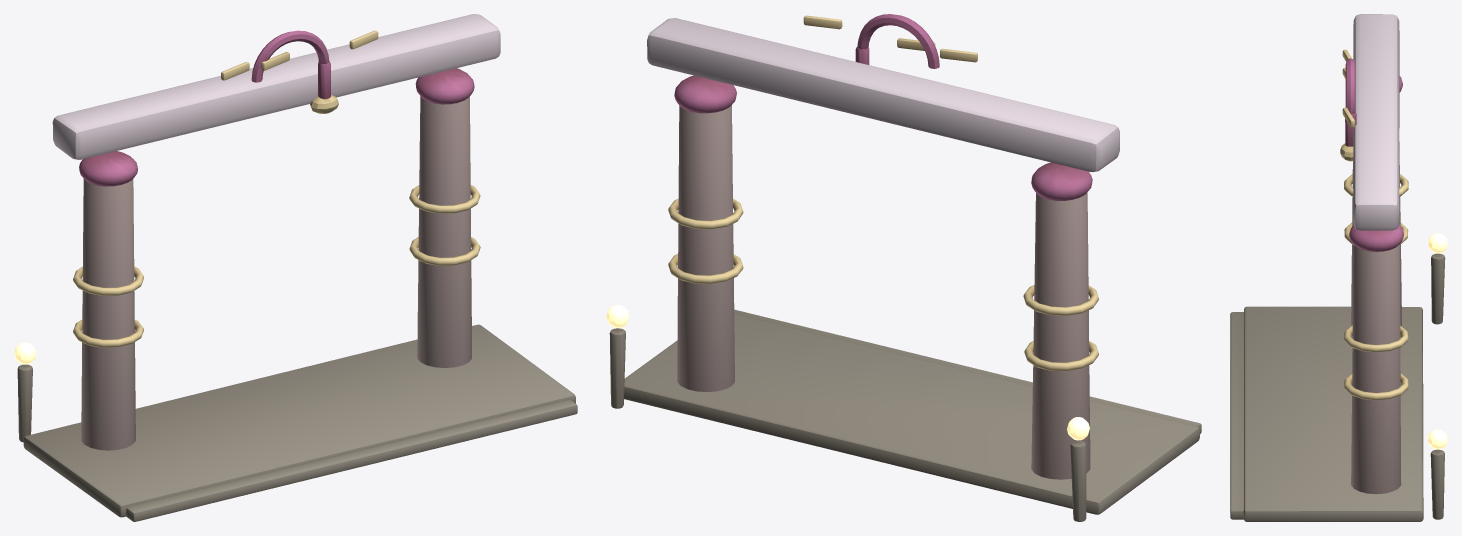
3 views of the same model, side by side, from view 1: azimuth 30°, elevation 25°; view 2: azimuth 150°, elevation 25°; view 3: azimuth 270°, elevation 25° (orthographic). The views are drawn at different scales.
Parts seen in each view (by area): view 1: gate_d0880348; view 2: gate_d0880348; view 3: gate_d0880348.
Part boxes in pixels (left/top/right/bottom): gate_d0880348: left=14, top=14, right=577, bottom=521; gate_d0880348: left=606, top=14, right=1201, bottom=521; gate_d0880348: left=1230, top=14, right=1447, bottom=521.
Bounding box in the file's own units: 5.69 × 4.67 × 2.55.
